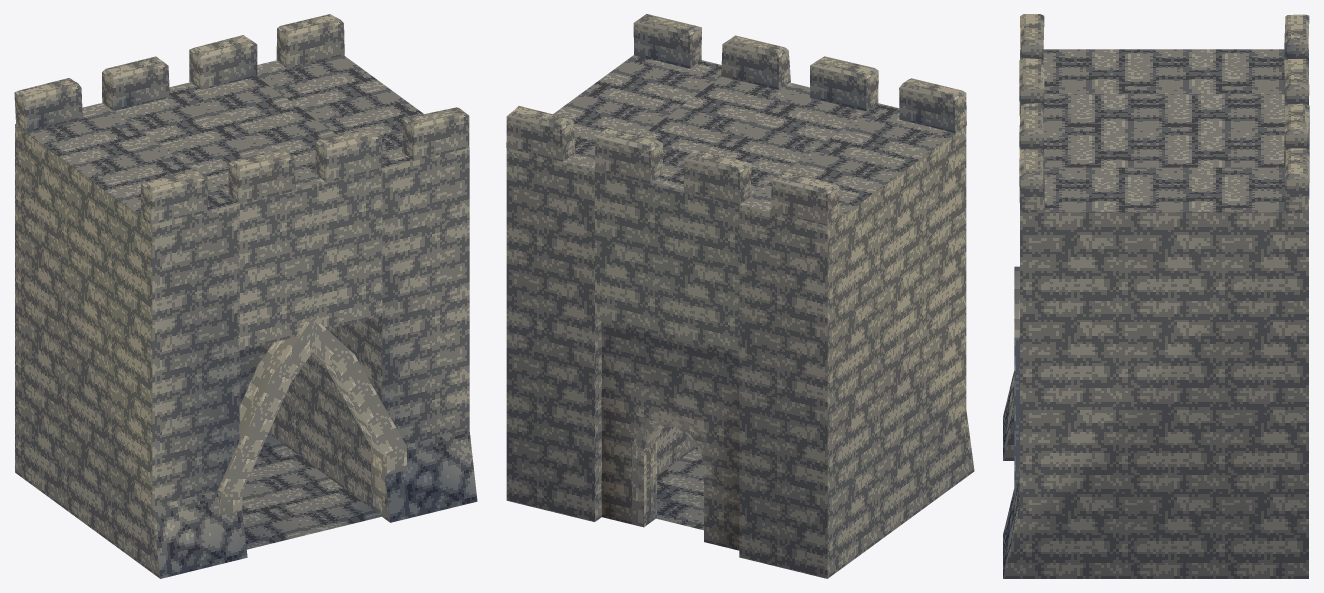
The model's file is cst.gatehouse__crenellated.glb.
The picture shows the model from 3 angles, left to right: view 1: azimuth 30°, elevation 25°; view 2: azimuth 150°, elevation 25°; view 3: azimuth 270°, elevation 25°; orthographic projection. The views are drawn at different scales.
Visible parts, largest first — view 1: kit_block, kit_top, kit_detail, kit_shell_passage_floor; view 2: kit_block, kit_top, kit_shell_passage_floor, kit_detail; view 3: kit_block, kit_top, kit_detail.
Part boxes in pixels (<box>): kit_block: <box>15,55,477,578</box>; kit_top: <box>14,14,469,224</box>; kit_detail: <box>217,315,406,518</box>; kit_shell_passage_floor: <box>242,433,381,549</box>; kit_block: <box>506,55,974,578</box>; kit_top: <box>506,14,966,225</box>; kit_shell_passage_floor: <box>656,447,703,530</box>; kit_detail: <box>632,413,715,541</box>; kit_block: <box>1003,49,1308,578</box>; kit_top: <box>1019,14,1309,213</box>; kit_detail: <box>1014,266,1019,497</box>.
Bounding box in the file's own units: 8.04 × 9.25 × 6.37.
5 materials, 5 textured.
